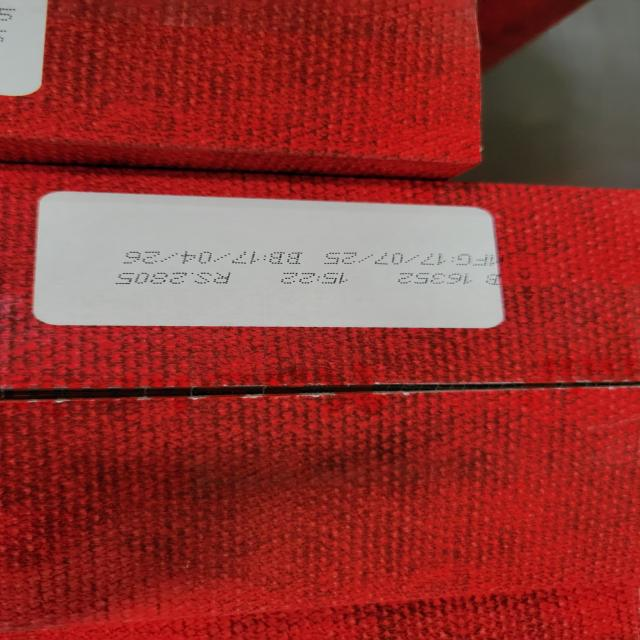BB: (126, 250, 311, 266)
Batch: (397, 272, 501, 285)
MFG: (322, 252, 501, 266)
RS: (112, 271, 232, 285)
TimeStamp: (279, 272, 350, 285)
